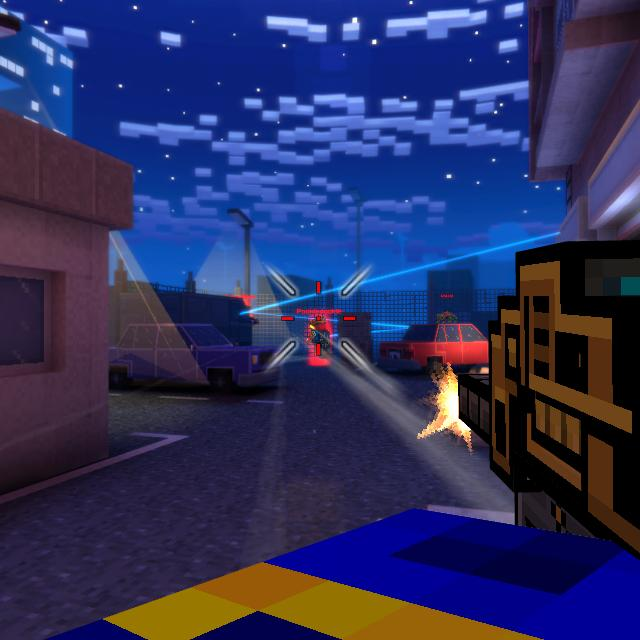Enemy: (307, 317, 331, 359)
